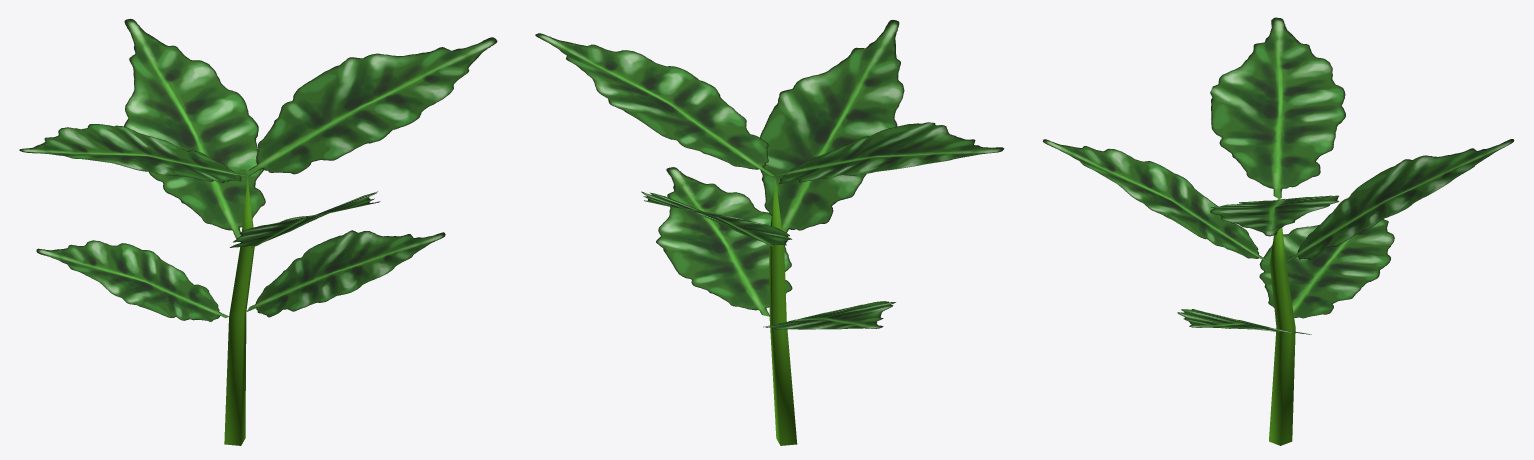
File: café broto.fbx
3 views of the same model, side by side, from view 1: azimuth 30°, elevation 25°; view 2: azimuth 150°, elevation 25°; view 3: azimuth 270°, elevation 25° (orthographic). The views are drawn at different scales.
Visible parts, largest first — view 1: café broto; view 2: café broto; view 3: café broto.
Boxes of the visible parts, bbox=[...] form: café broto: bbox=[19, 18, 497, 445]; café broto: bbox=[535, 20, 1004, 445]; café broto: bbox=[1043, 17, 1514, 445].
Size of the model in its own units: 2.3 by 1.57 by 2.12.
